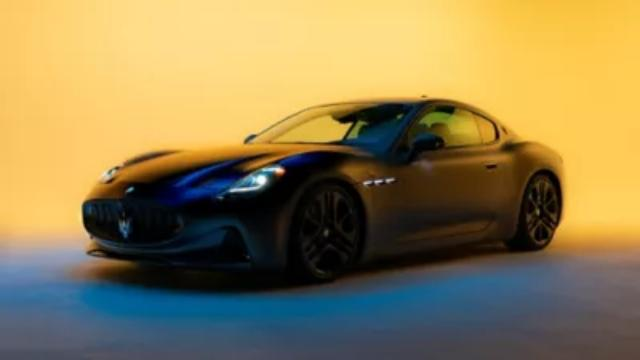maserati: (81, 95, 566, 283)
